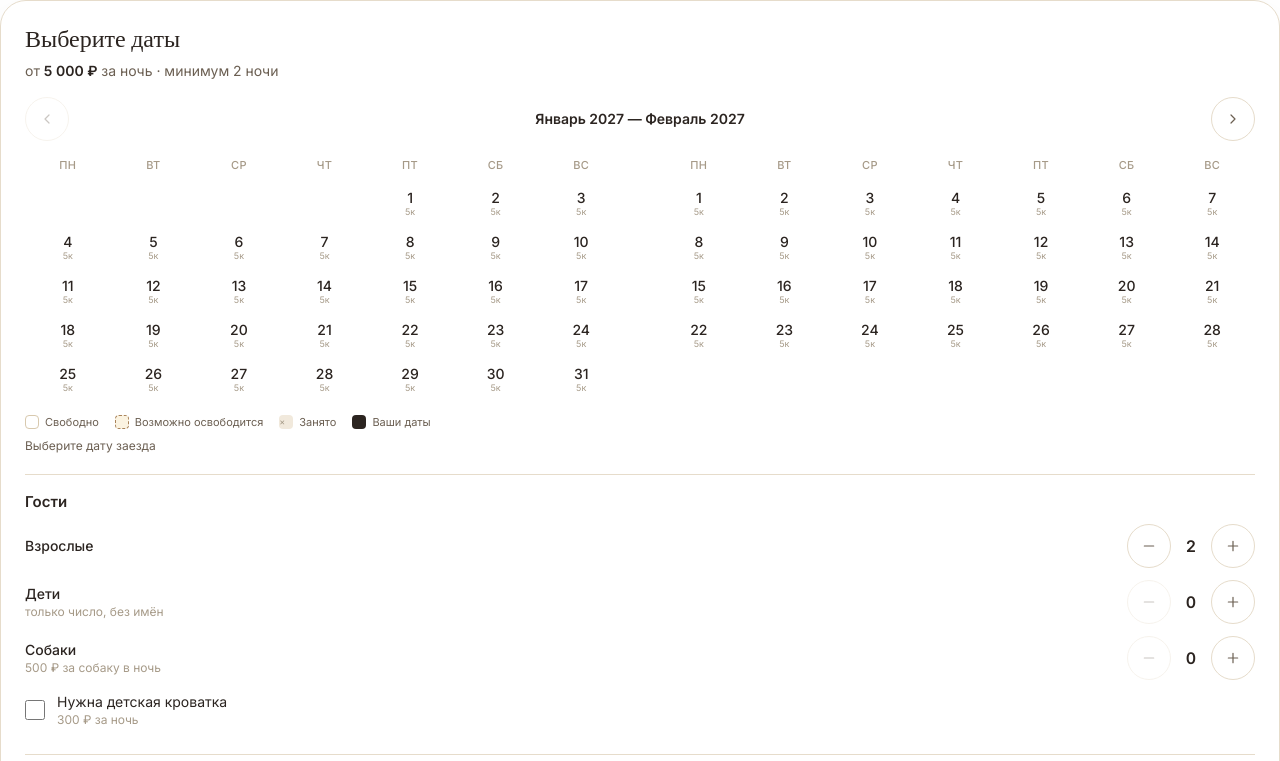
Test: BookingPanel › picking dates on the calendar makes the quote
What coordinates should you click on to do the following:
click the 2nd button "5 5к"
I would click on:
 (153, 248)
Its box is [111,226,196,270].
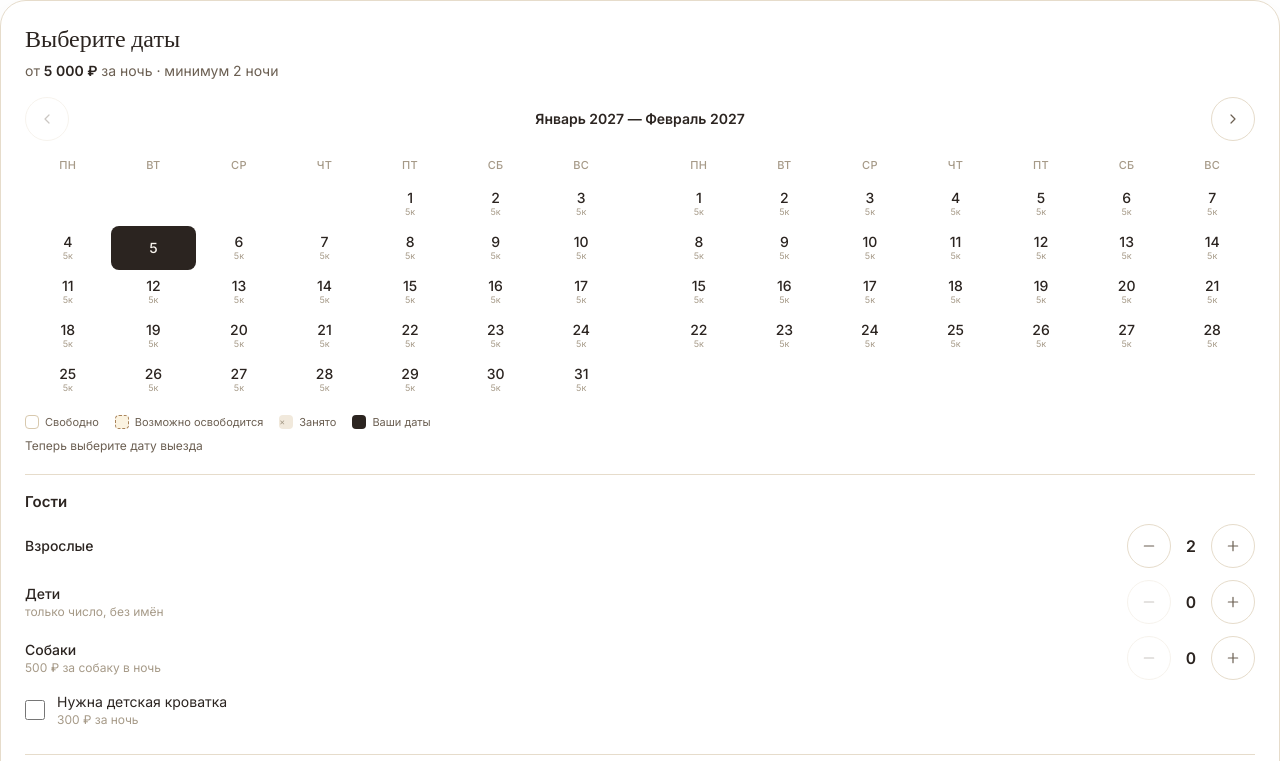
What coordinates should you click on to do the following:
click the 1st button "8 5к"
I would click on:
 (410, 248)
Its box is [367,226,453,270].
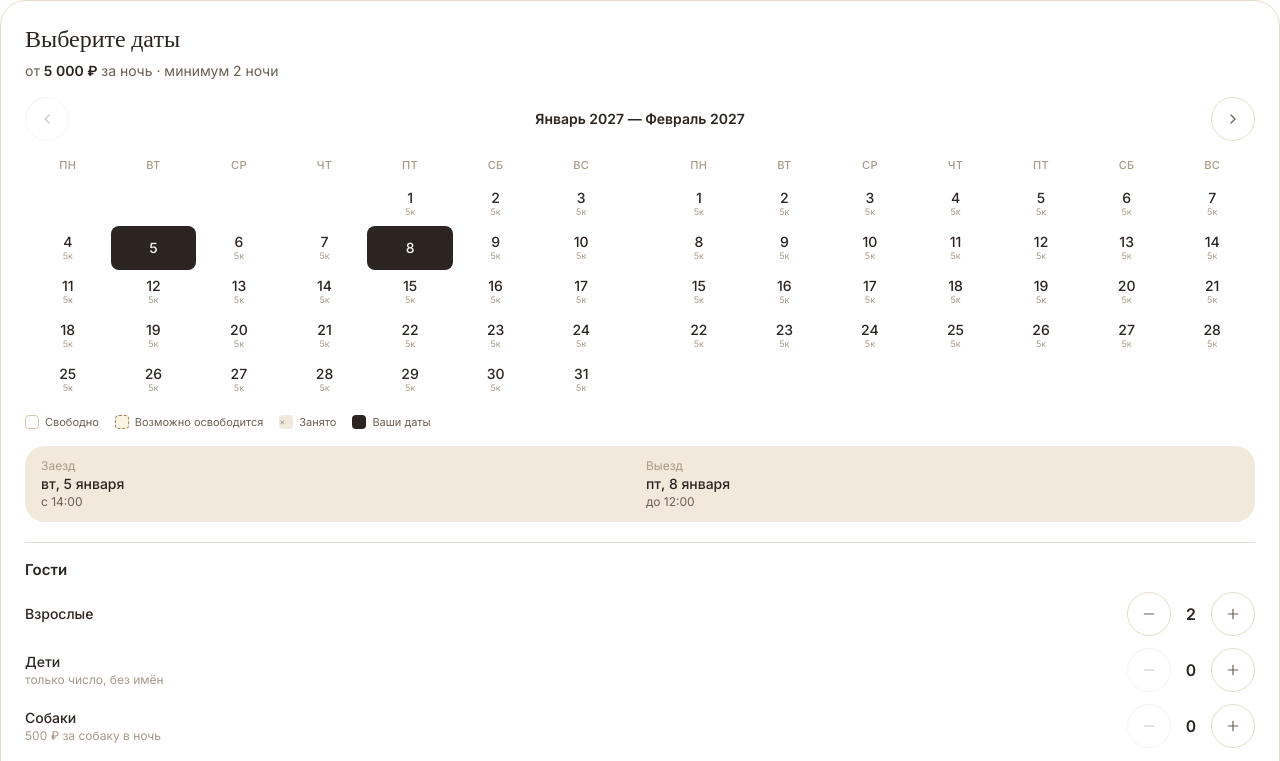
Check: the element with test id "stay-summary" is shown, box [25,446,1255,522]
